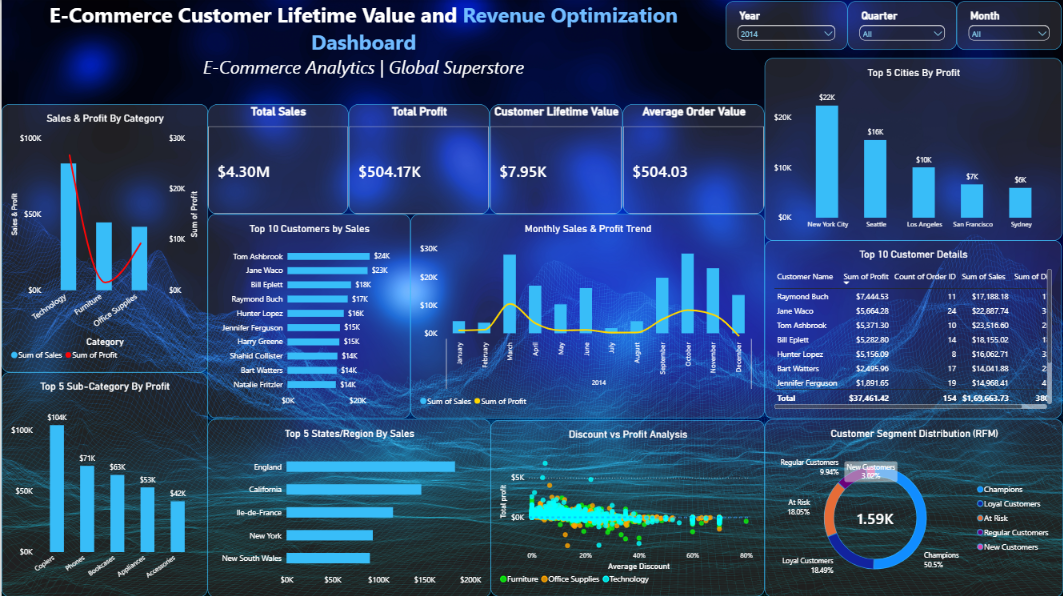

The page's visual inventory and layout, read from the dashboard file:
{"tool":"powerbi","page":{"name":"Page 1","canvas":[1920,1080],"ordinal":0},"visuals":[{"type":"clusteredBarChart","title":"Top 10 Customers by  Sales","fields":{"Category":["Global_Superstore_Clean.Customer Name"],"Y":["Sum(Global_Superstore_Clean.Sales)"]},"box":[373.5,387.8,367.3,369.4],"z":0},{"type":"lineClusteredColumnComboChart","title":"Monthly Sales & Profit Trend","fields":{"Category":["Global_Superstore_Clean.Order Date.Variation.Date Hierarchy.Year","Global_Superstore_Clean.Order Date.Variation.Date Hierarchy.Month"],"Y":["Sum(Global_Superstore_Clean.Sales)"],"Y2":["Sum(Global_Superstore_Clean.Profit)"]},"box":[740.8,387.8,640.8,369.4],"z":1000},{"type":"scatterChart","title":"Discount vs Profit Analysis","fields":{"Category":["Global_Superstore_Clean.Customer ID"],"Series":["Global_Superstore_Clean.Category"],"X":["Avg(Global_Superstore_Clean.Discount)"],"Y":["Sum(Global_Superstore_Clean.Profit)"]},"box":[885.1,759.5,496.1,319],"z":2000},{"type":"lineClusteredColumnComboChart","title":"Sales & Profit By Category","fields":{"Category":["Global_Superstore_Clean.Category"],"Y":["Sum(Global_Superstore_Clean.Sales)"],"Y2":["Sum(Global_Superstore_Clean.Profit)"]},"box":[0,187.8,373.5,485.7],"z":3000},{"type":"columnChart","title":"Top 5 Sub-Category By Profit","fields":{"Category":["Global_Superstore_Clean.Sub-Category"],"Y":["Sum(Global_Superstore_Clean.Profit)"]},"box":[0,673.1,372.6,407.5],"z":4000},{"type":"clusteredBarChart","title":"Top 5 States/Region By Sales","fields":{"Category":["Global_Superstore_Clean.State"],"Y":["Sum(Global_Superstore_Clean.Sales)"]},"box":[372.6,757.5,512.5,323.2],"z":5000},{"type":"donutChart","title":"Customer Segment Distribution (RFM)","fields":{"Category":["RFM_Table.RFM_Segment"],"Y":["CountNonNull(RFM_Table.Customer ID)"]},"box":[1381.1,757.5,540,322],"z":6000},{"type":"clusteredColumnChart","title":"Top 5 Cities By Profit","fields":{"Category":["Global_Superstore_Clean.City"],"Y":["Sum(Global_Superstore_Clean.Profit)"]},"box":[1381.6,104.1,538.8,330.6],"z":7000},{"type":"tableEx","title":"Top 10 Customer Details","fields":{"Values":["Global_Superstore_Clean.Customer Name","Sum(Global_Superstore_Clean.Profit)","Global_Superstore_Clean.Order ID","Sum(Global_Superstore_Clean.Sales)","Sum(Global_Superstore_Clean.Discount)"]},"box":[1381.6,434.7,537.2,323.2],"z":8000},{"type":"slicer","title":"Order Period","fields":{"Values":["Global_Superstore_Clean.Order Date.Variation.Date Hierarchy.Year"]},"box":[1310.2,2,220.4,87.8],"z":9000},{"type":"slicer","fields":{"Values":["Global_Superstore_Clean.Order Date.Variation.Date Hierarchy.Month"]},"box":[1728.6,2,189.8,87.8],"z":10000},{"type":"slicer","title":"Order Period","fields":{"Values":["Global_Superstore_Clean.Order Date.Variation.Date Hierarchy.Quarter"]},"box":[1530.6,2,198,87.8],"z":11000},{"type":"cardVisual","title":"Total Sales","fields":{"Data":["Sum(Global_Superstore_Clean.Sales)"]},"box":[373.5,187.8,255.1,200],"z":12000},{"type":"cardVisual","title":"Total Profit","fields":{"Data":["Sum(Global_Superstore_Clean.Profit)"]},"box":[628.6,187.8,255.1,200],"z":13000},{"type":"cardVisual","title":" Customer Lifetime Value ","fields":{"Data":["Global_Superstore_Clean.Customer Lifetime Value"]},"box":[883.7,187.8,240.8,200],"z":14000},{"type":"cardVisual","title":"Average Order Value","fields":{"Data":["Global_Superstore_Clean.Average Order Value"]},"box":[1124.5,187.8,257.1,200],"z":15000},{"type":"textbox","box":[0,0,1310.2,155.1],"z":16000}]}

Visuals, with their boxes in screenshot pixels (x1, y1, x2, y2), scaled from the page's 1920x1080 canvas onto the 1063x596 screenshot:
"Top 10 Customers by  Sales" clusteredBarChart: 207 214 410 418
"Monthly Sales & Profit Trend" lineClusteredColumnComboChart: 410 214 765 418
"Discount vs Profit Analysis" scatterChart: 490 419 765 595
"Sales & Profit By Category" lineClusteredColumnComboChart: 0 104 207 372
"Top 5 Sub-Category By Profit" columnChart: 0 371 206 595
"Top 5 States/Region By Sales" clusteredBarChart: 206 418 490 595
"Customer Segment Distribution (RFM)" donutChart: 765 418 1062 595
"Top 5 Cities By Profit" clusteredColumnChart: 765 57 1062 240
"Top 10 Customer Details" tableEx: 765 240 1062 418
"Order Period" slicer: 725 1 847 50
slicer - Global_Superstore_Clean.Order Date.Variation.Date Hierarchy.Month: 957 1 1062 50
"Order Period" slicer: 847 1 957 50
"Total Sales" cardVisual: 207 104 348 214
"Total Profit" cardVisual: 348 104 489 214
" Customer Lifetime Value " cardVisual: 489 104 623 214
"Average Order Value" cardVisual: 623 104 765 214
textbox: 0 0 725 86
